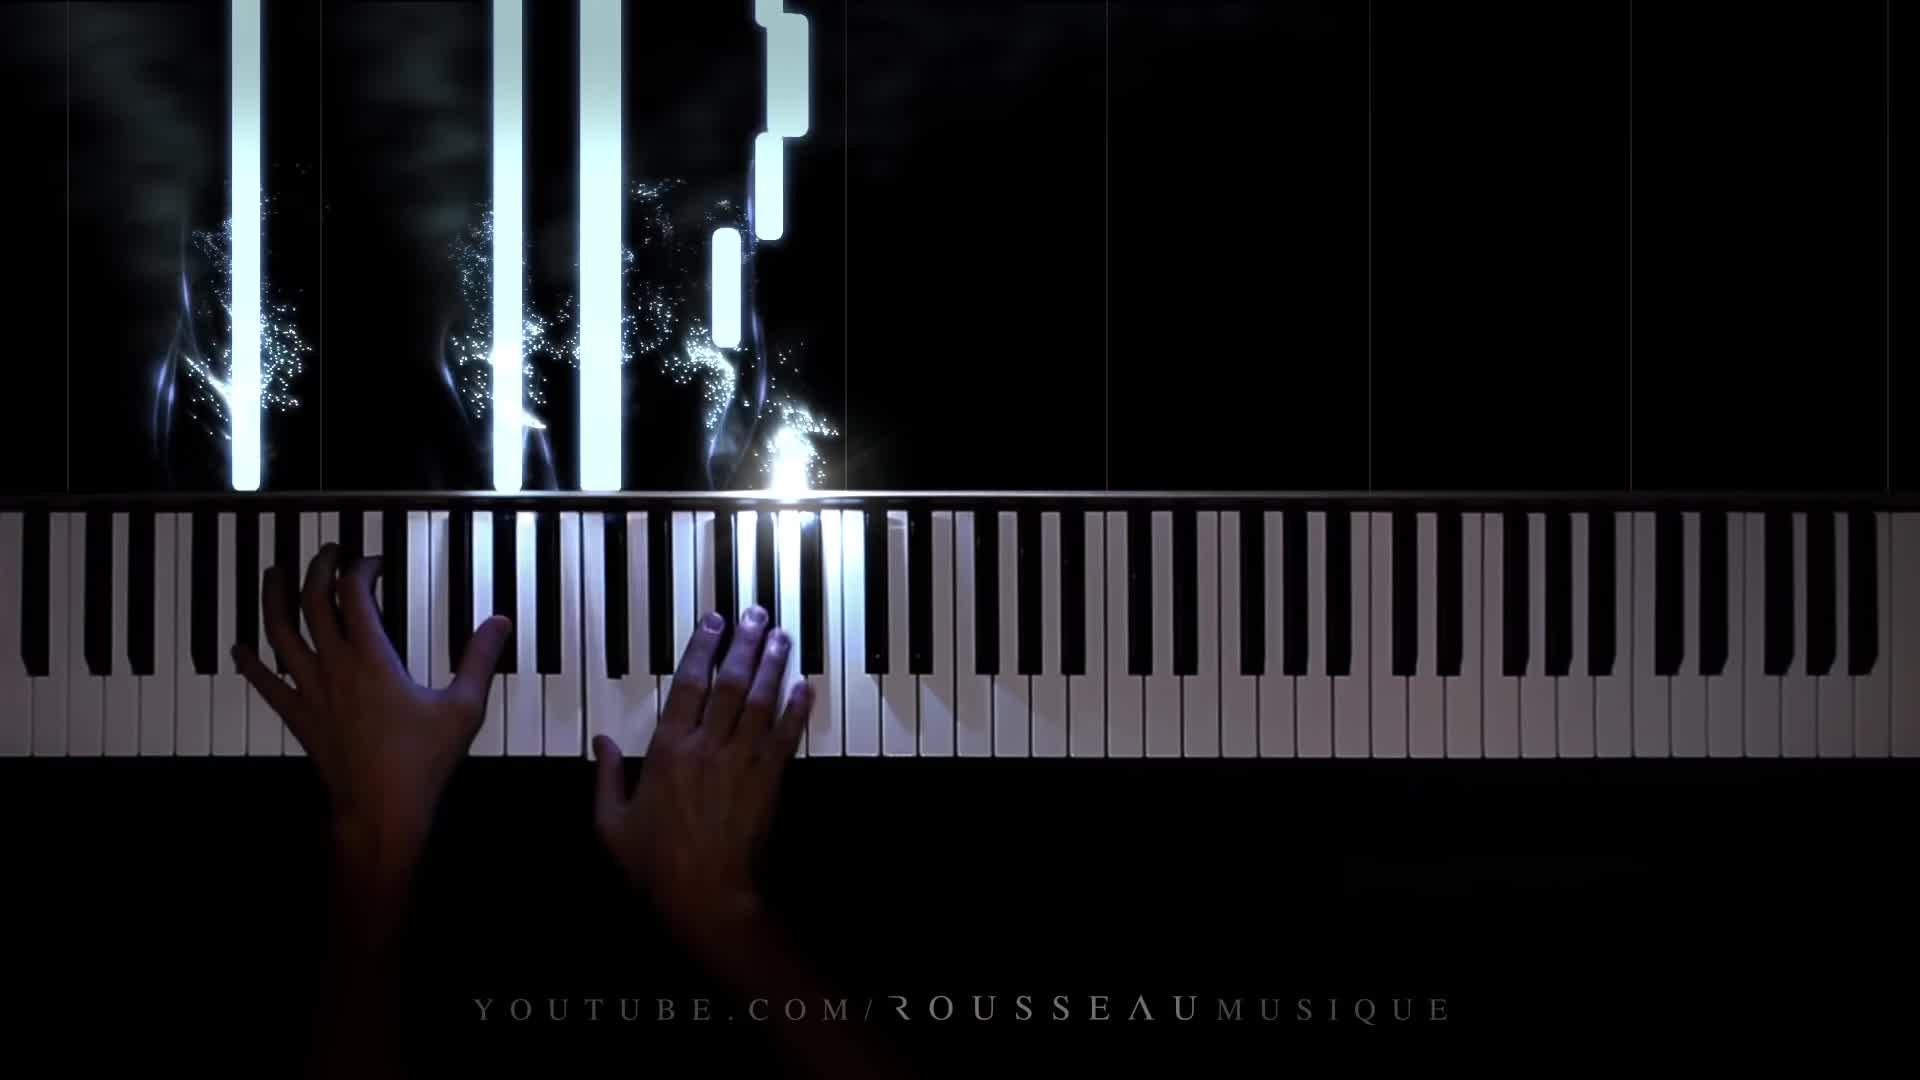left: (229, 541, 517, 775)
right: (591, 603, 820, 870)
